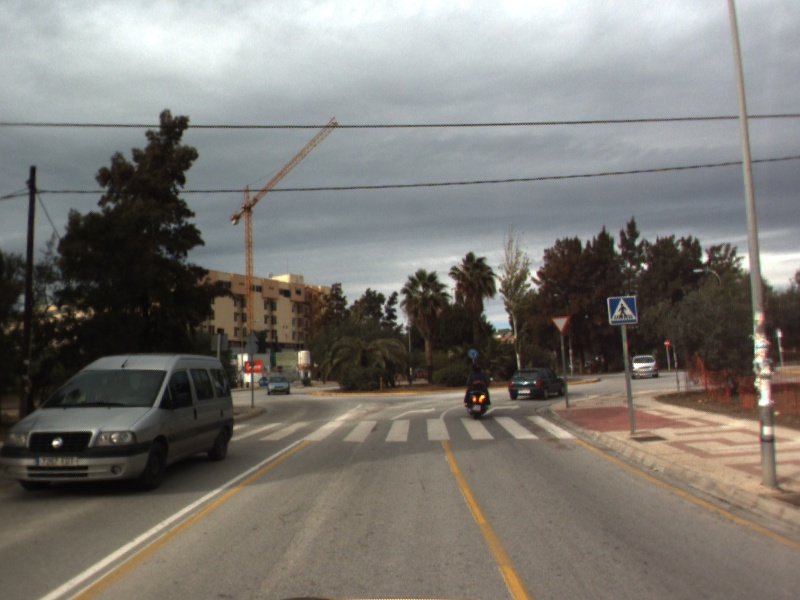RIGHT: (388, 406, 437, 422), (480, 402, 523, 418)
